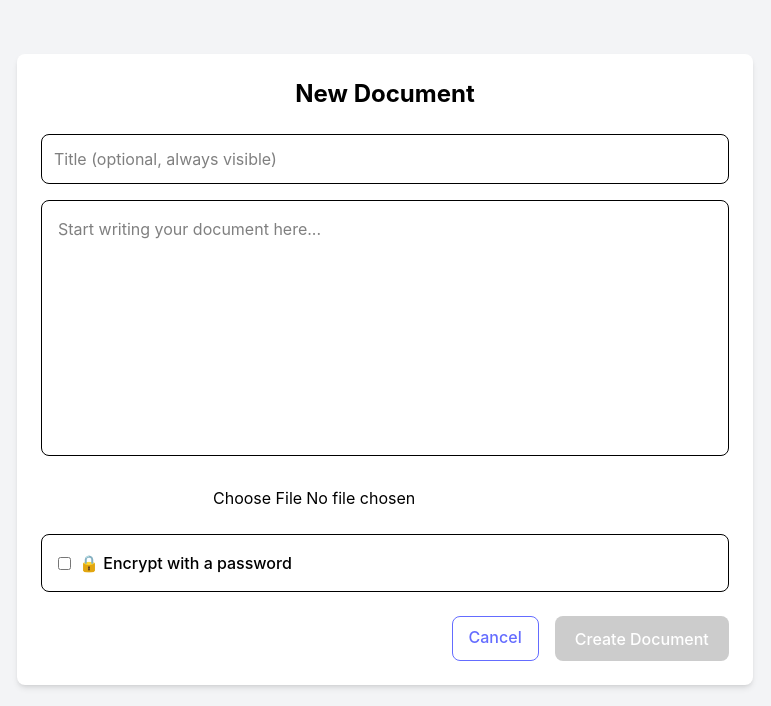
Test case: Encryption UI › DocumentEditor hides encryption fields until the toggle is checked
Expected: the text "🔒 Encrypt with a password" is shown, left=79, top=551, right=292, bottom=575
What coordinates should you click on to do the following:
click the checkbox labelled "🔒 Encrypt with a password"
I would click on:
 (64, 563)
Its box is left=58, top=556, right=71, bottom=570.
(page scrolled)
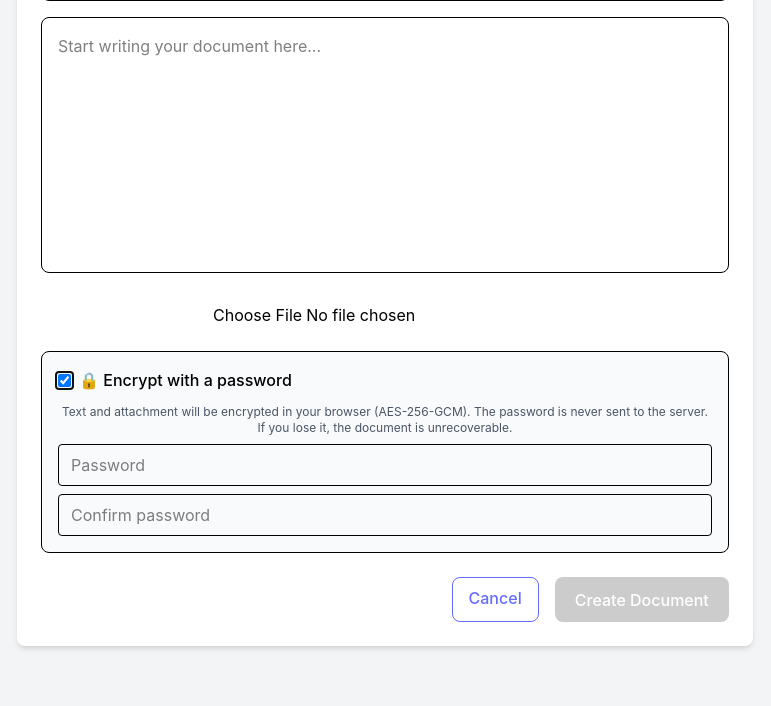
Expected: the password field with placeholder "Password" is shown, left=58, top=444, right=712, bottom=486
Expected: the password field with placeholder "Confirm password" is shown, left=58, top=494, right=712, bottom=536
